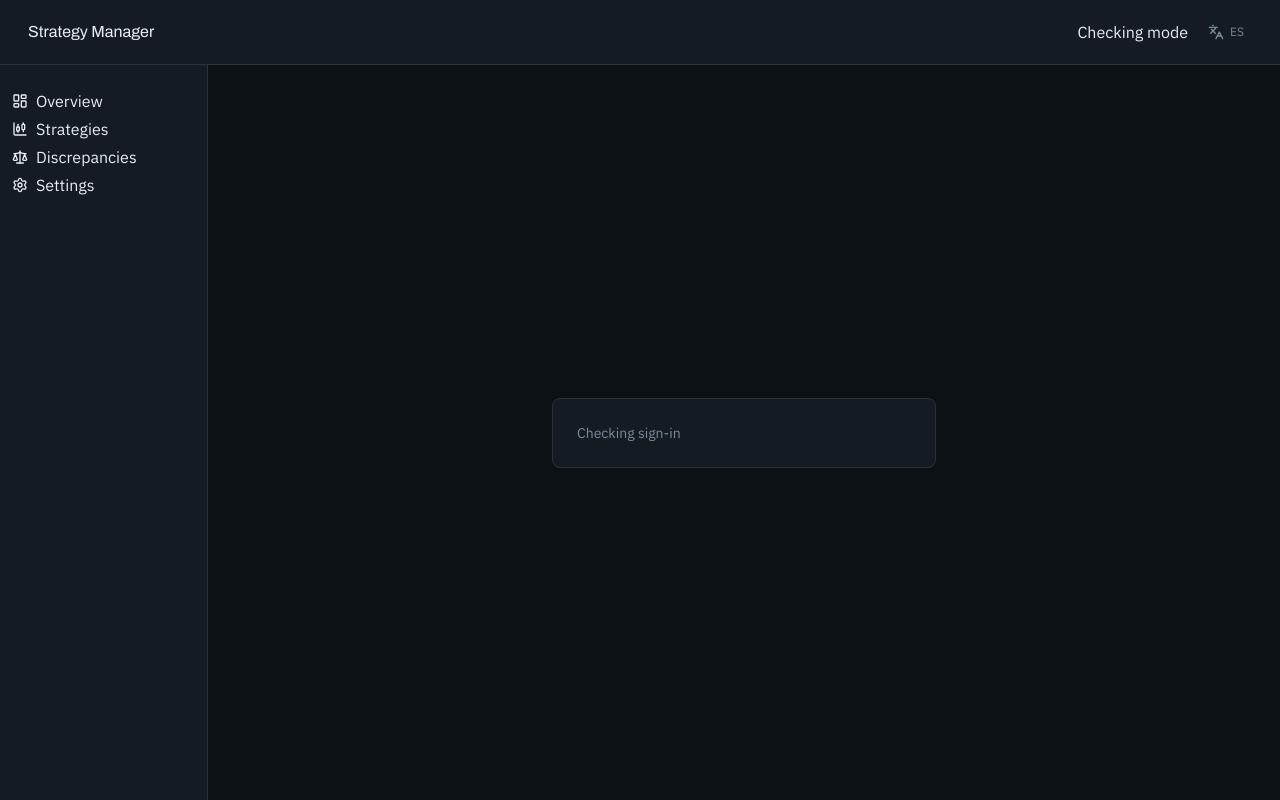
Test: navigation › moves the active state when a link is followed
The width and height of the screenshot is (1280, 800).
Click the link "Strategies". click: (60, 129)
box: [12, 119, 109, 139]
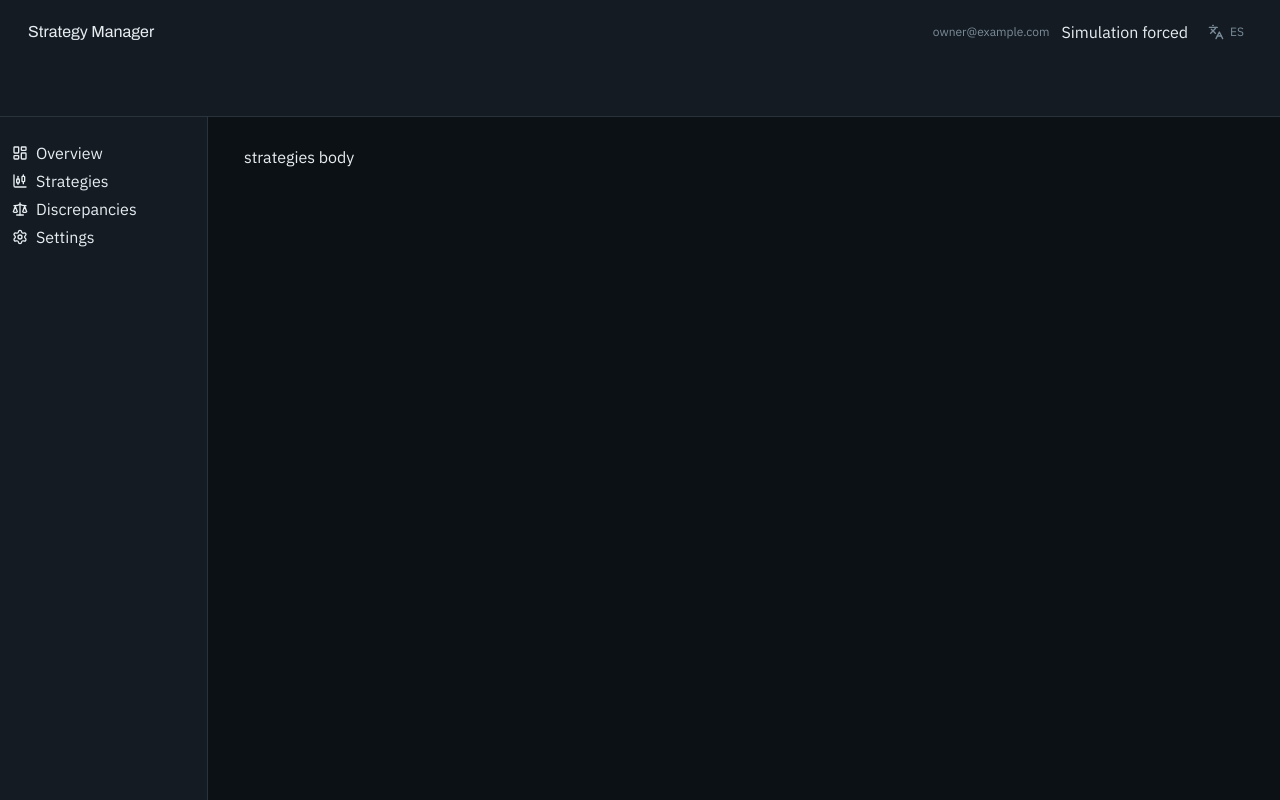
Expected: the text "strategies body" is shown, [244, 147, 354, 167]
